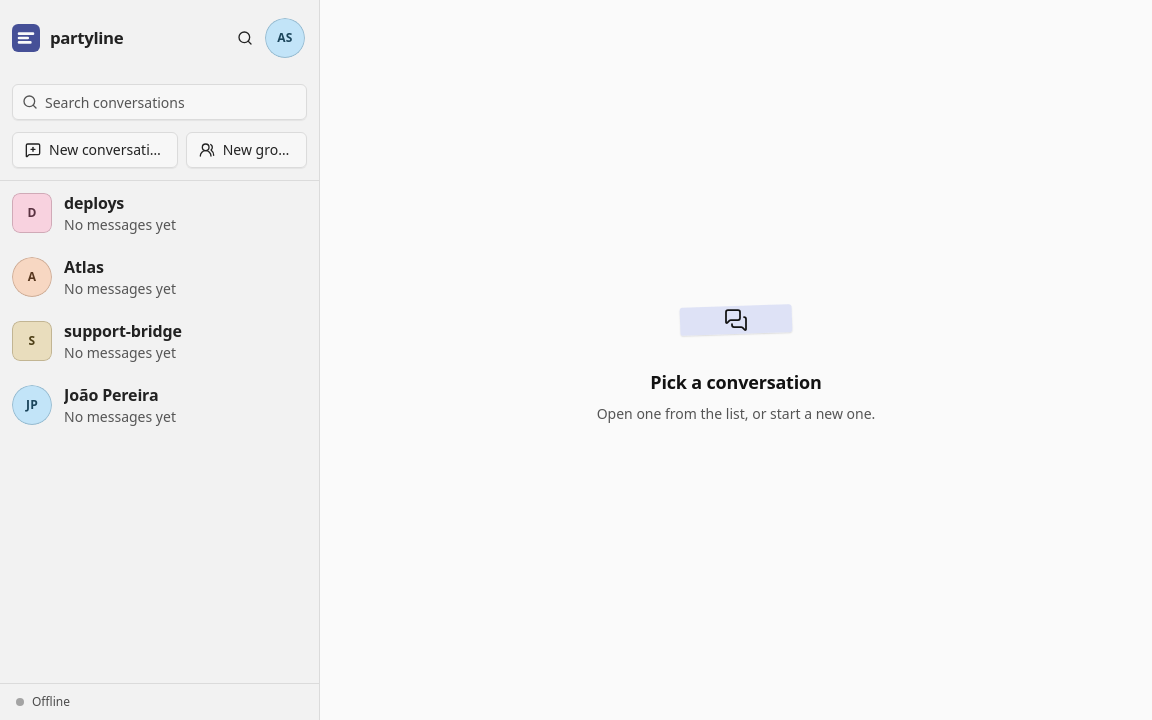
search (LAY-03) › offers to look for the text among the contacts, so someone with no conversation yet can be reached
Type "lab" into the search field labelled "Search conversations". click: (160, 102)
box: [12,84,307,120]
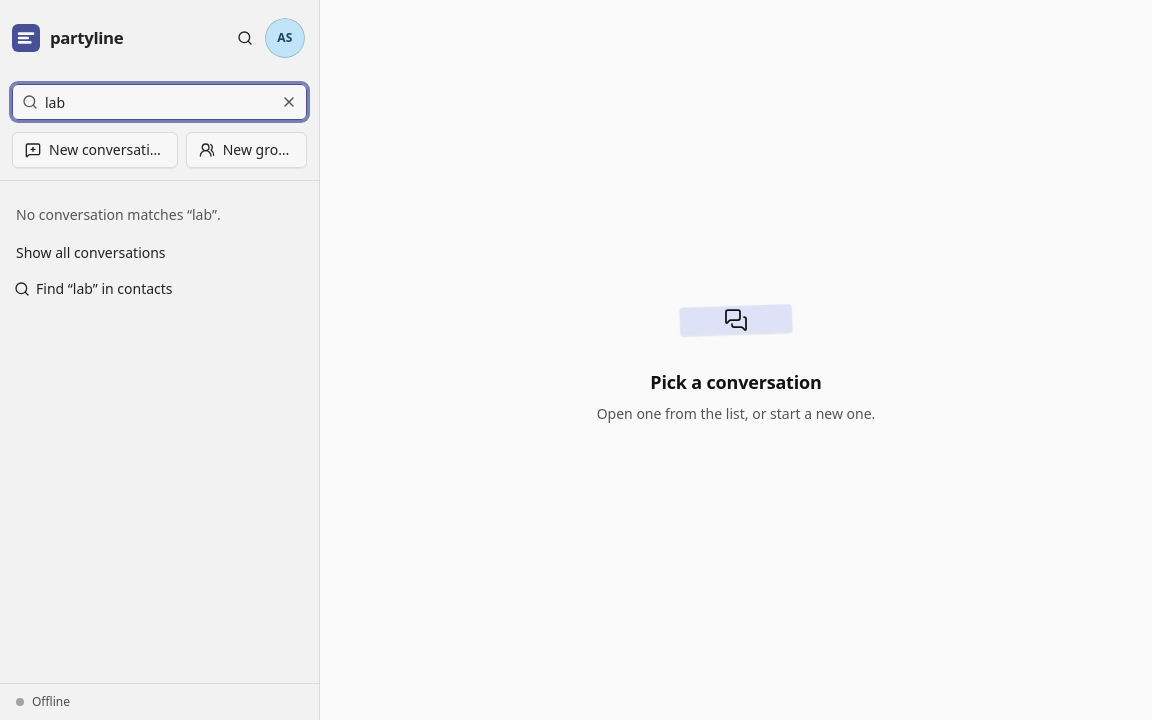
Click the button "Find “lab” in contacts". click: (93, 289)
box: [4,273,182,305]
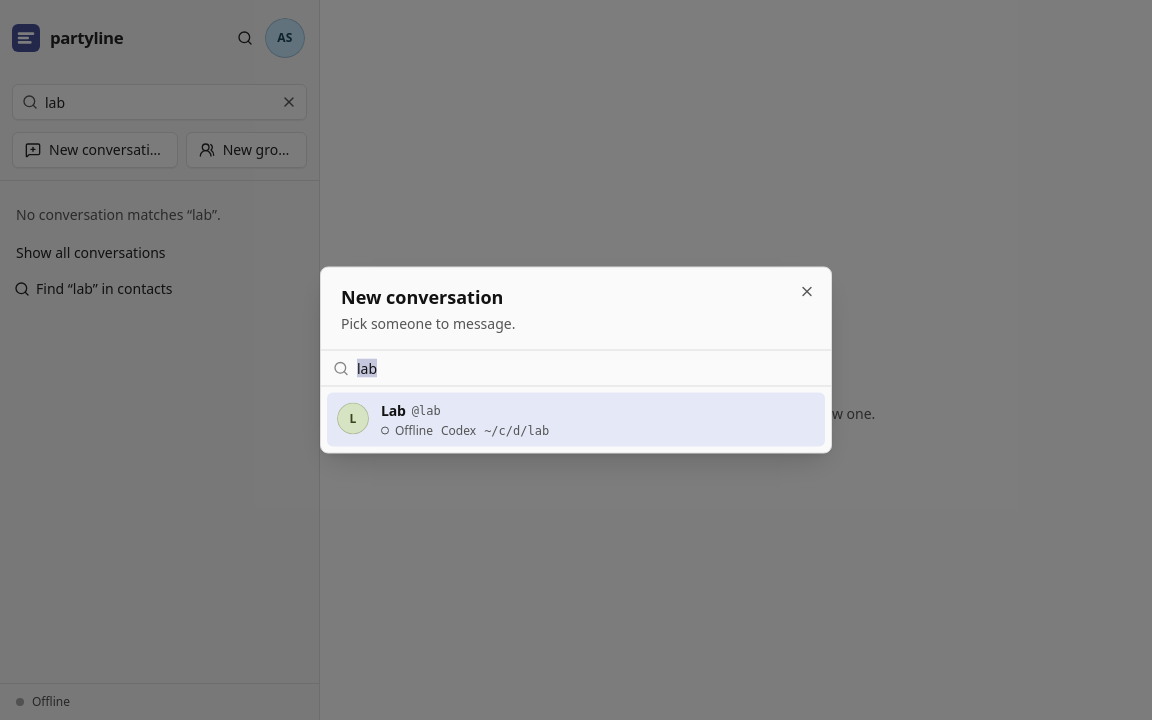
Expected: the dropdown named "Search contacts" holds "lab", [357,350,819,388]
Expected: the option with test id "contact-a3" shows "Lab", [327,392,825,446]
